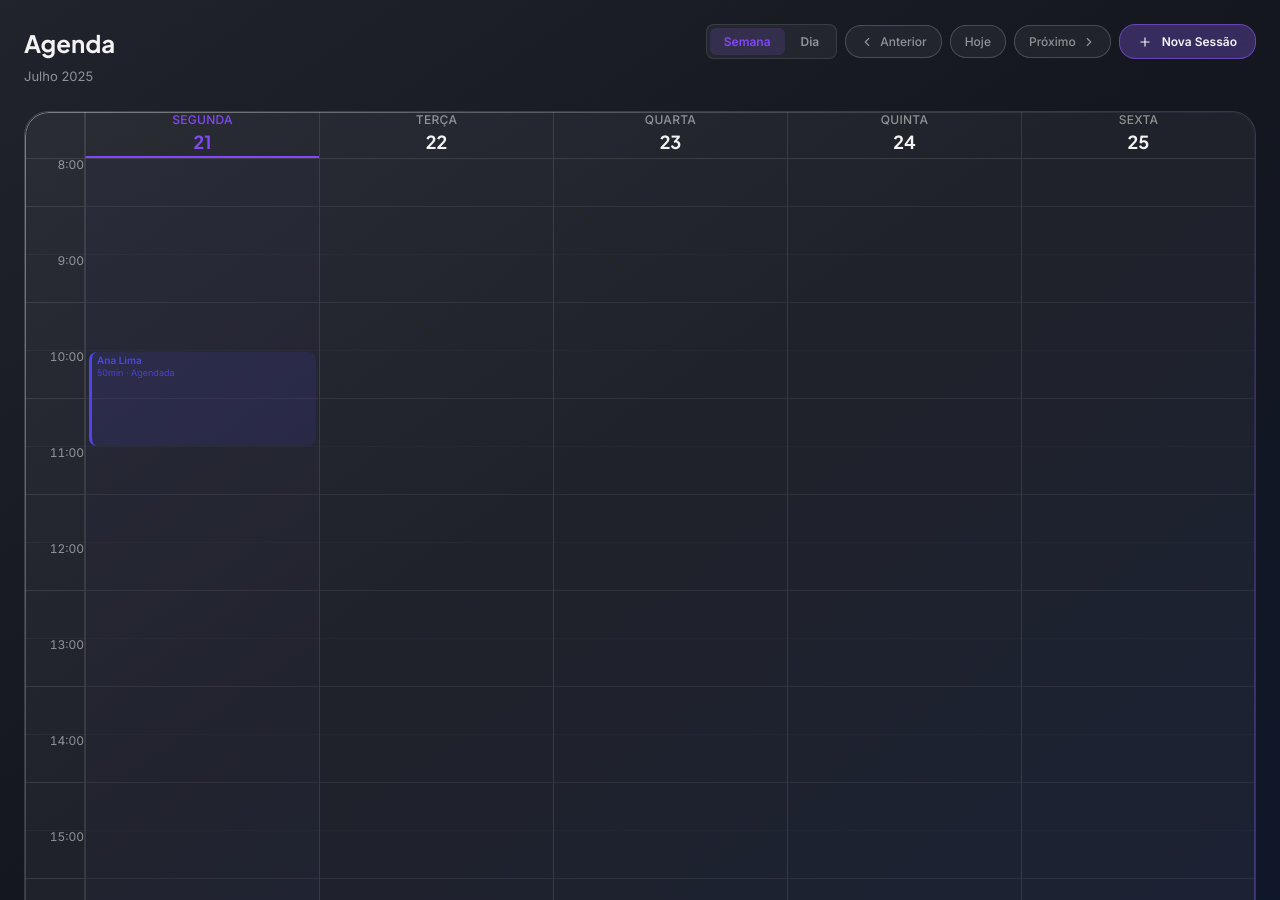
Scenario: AgendaPage › toggle "Semana" volta para WeekView após estar em modo Dia
Switch to day view
Click the button "Dia" at {"x": 810, "y": 42}, box 787,28 -> 833,55
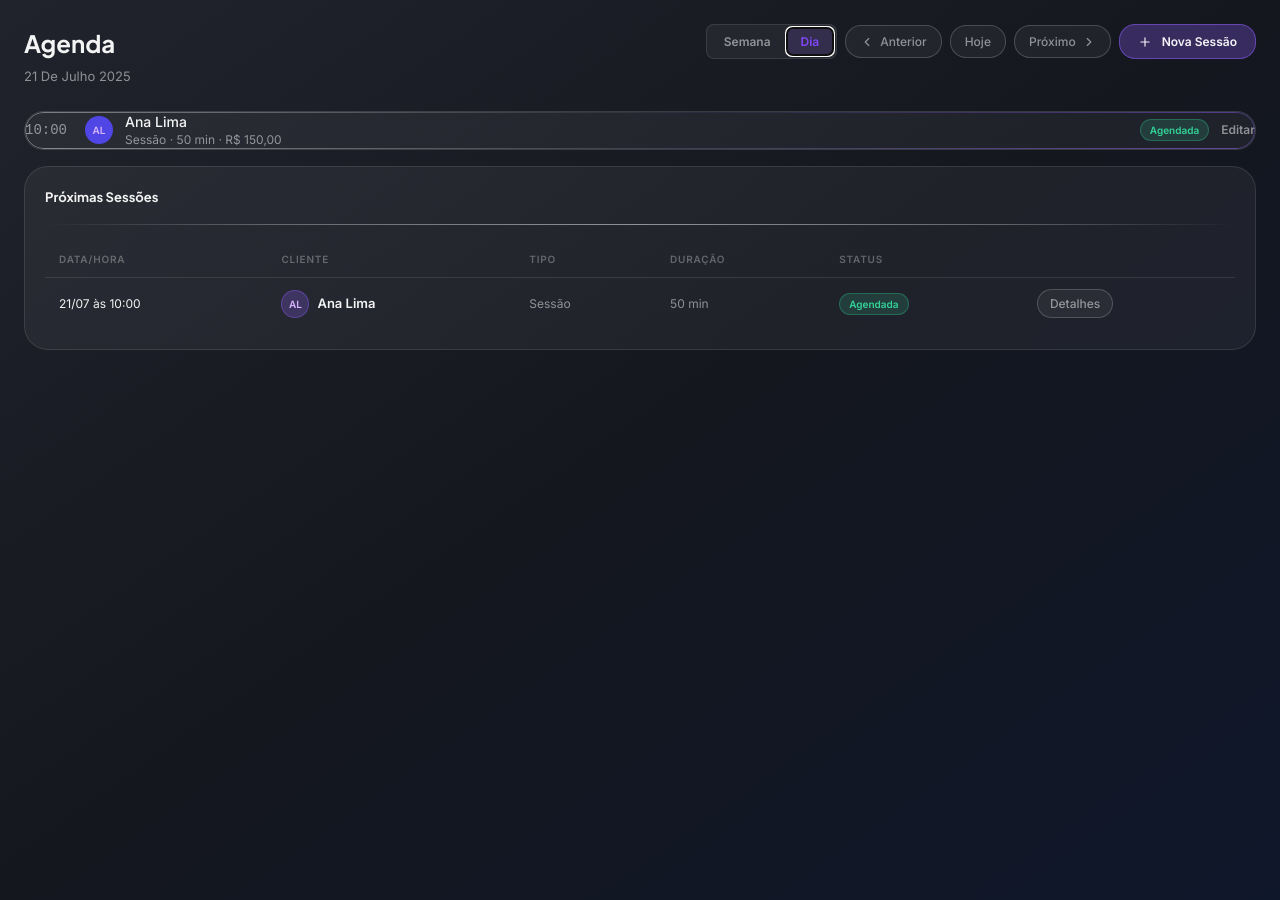
Check: the text "Sessão · 50 min · R$ 150,00" is shown, box 125,132 -> 282,147
Switch back to week view
Click the button "Semana" at {"x": 747, "y": 42}, box 710,28 -> 784,55
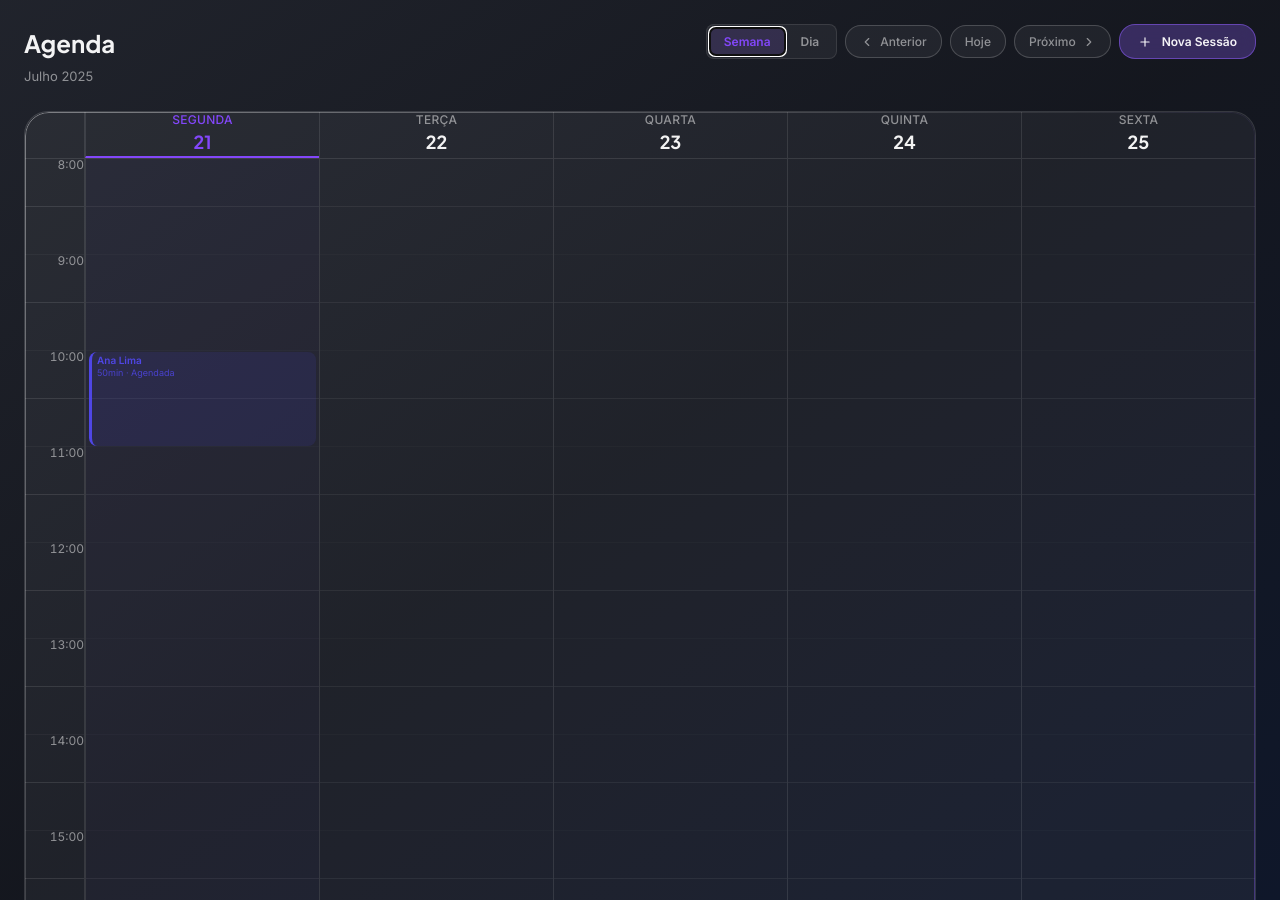
Check: the text "segunda" is shown, box 172,112 -> 233,127
